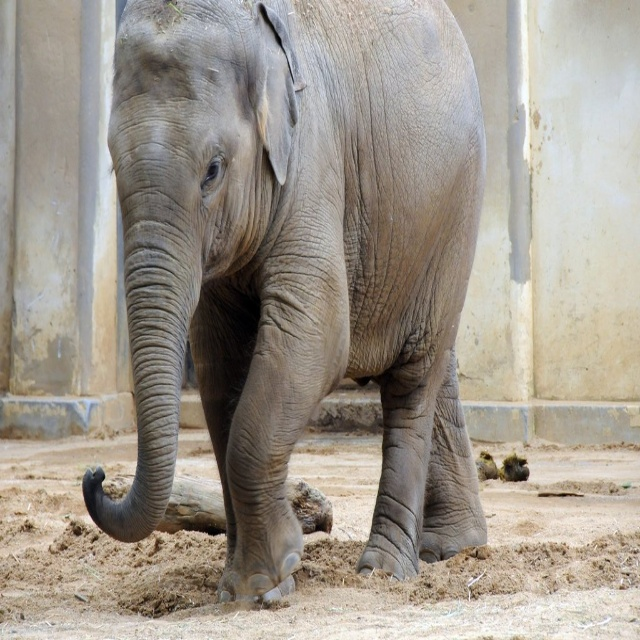Elephant: (78, 0, 494, 607)
